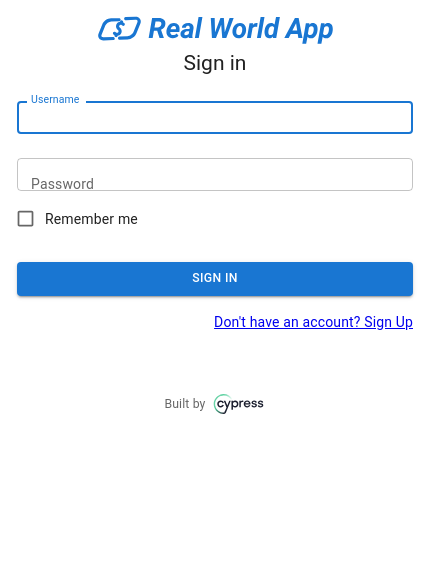
Test: Signup › Should show error with invalid credentials
The image size is (431, 584).
Step 1. Click the link to "/signup" → [314, 322], box [214, 314, 413, 330]
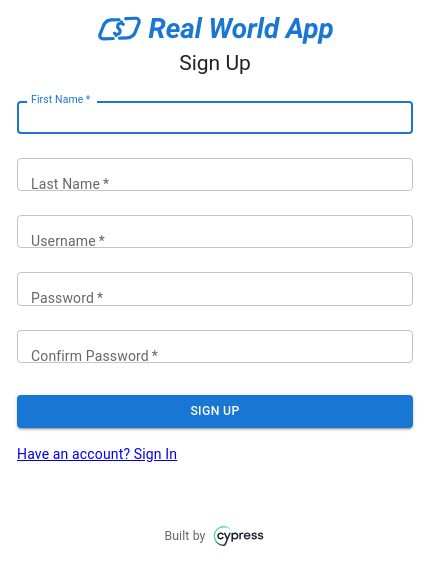
Step 2. Click the button with test id "signup-submit" → [215, 412], box [17, 395, 413, 428]
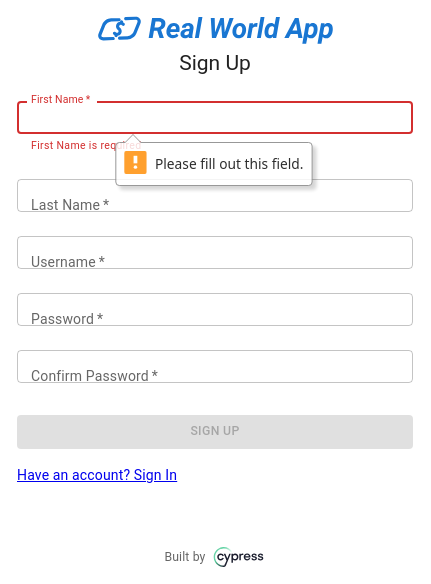
Expected: the text "First Name is required" is shown, [31, 139, 142, 152]
